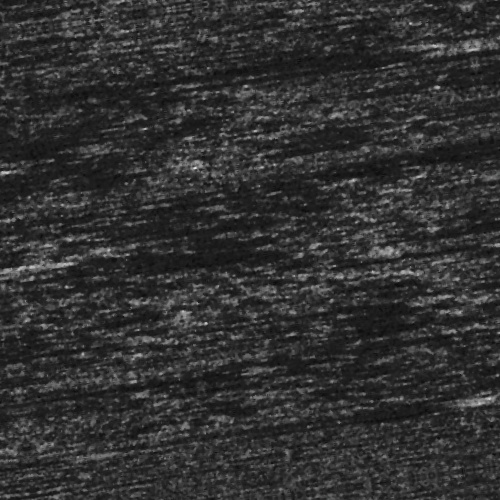object: (390, 423, 473, 436), (465, 75, 500, 84), (215, 364, 268, 369), (26, 426, 79, 431), (432, 68, 443, 73), (0, 179, 13, 182), (487, 275, 500, 278)
shadow: (222, 423, 431, 436), (206, 75, 496, 84), (146, 68, 437, 73), (18, 364, 241, 369), (362, 176, 500, 181), (392, 494, 500, 500), (361, 275, 500, 278), (0, 426, 53, 431), (451, 140, 500, 145), (481, 131, 500, 136)
